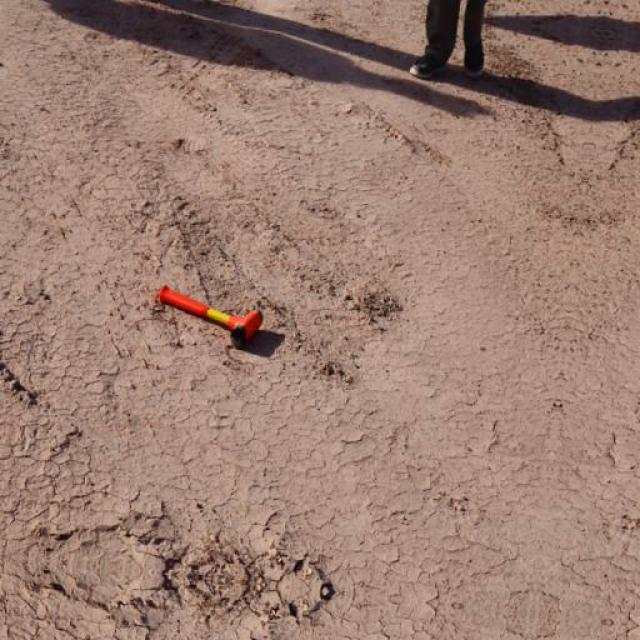mallet: (156, 282, 265, 348)
